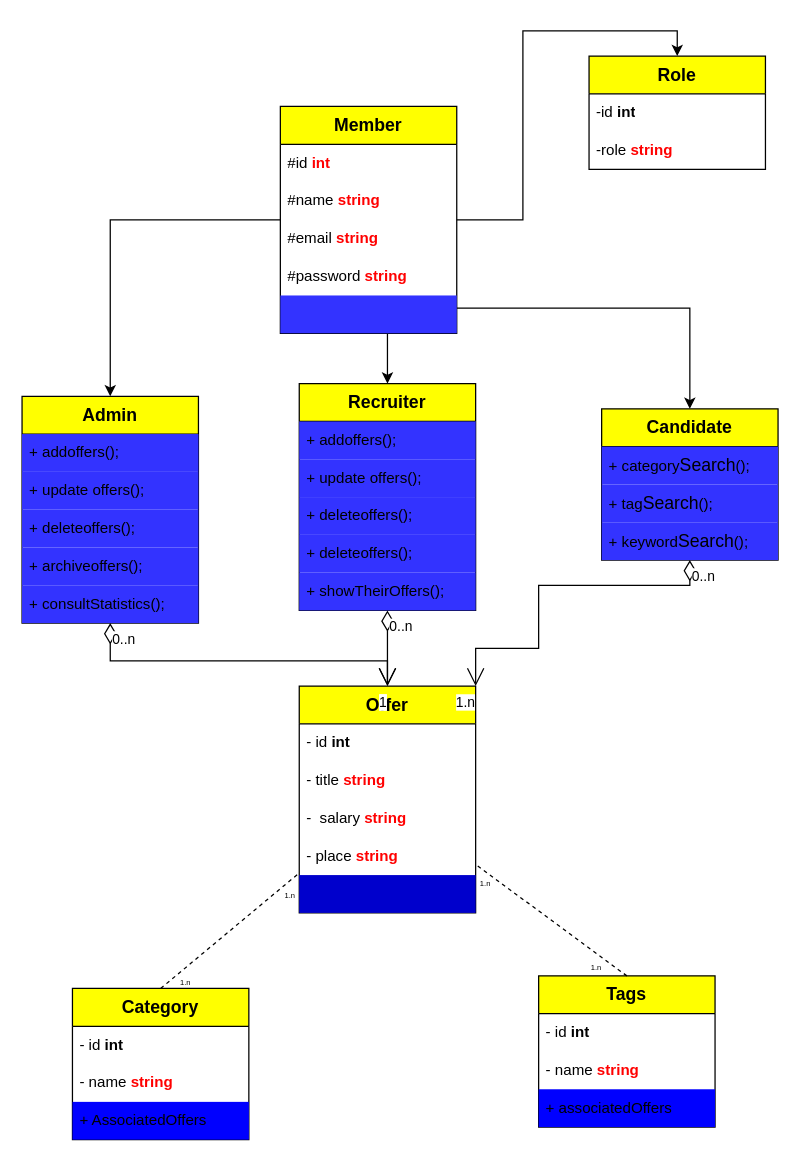
The diagram is 800 pixels wide and 1162 high, and some of its shapes have lost their labels. Each missing label, with the centre of its shape:
"#login" goes at (x=368, y=314).
"+ verificationcategory()" goes at (x=387, y=893).
